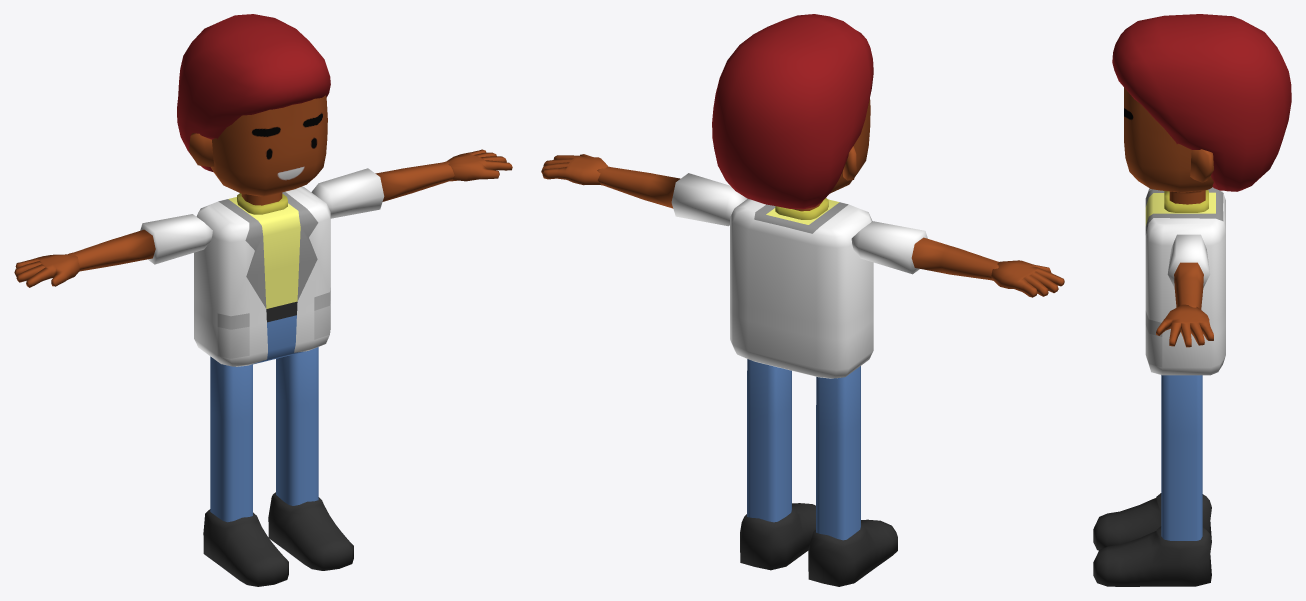
The model's file is NPC_Yellow02_RedHair04.gltf.
3 renders of one model, left to right at view 1: azimuth 30°, elevation 25°; view 2: azimuth 150°, elevation 25°; view 3: azimuth 270°, elevation 25°, orthographic. The views are drawn at different scales.
Visible parts, largest first — view 1: NPC_Corpo_Yellow2_RedHair.004; view 2: NPC_Corpo_Yellow2_RedHair.004; view 3: NPC_Corpo_Yellow2_RedHair.004.
Part boxes in pixels (box(x1,y1,x2,y2)): NPC_Corpo_Yellow2_RedHair.004: box(14, 14, 512, 586); NPC_Corpo_Yellow2_RedHair.004: box(541, 14, 1064, 586); NPC_Corpo_Yellow2_RedHair.004: box(1093, 14, 1291, 586).
Bounding box in the file's own units: 2.31 × 2.3 × 0.7742.
1 material, 1 textured.
